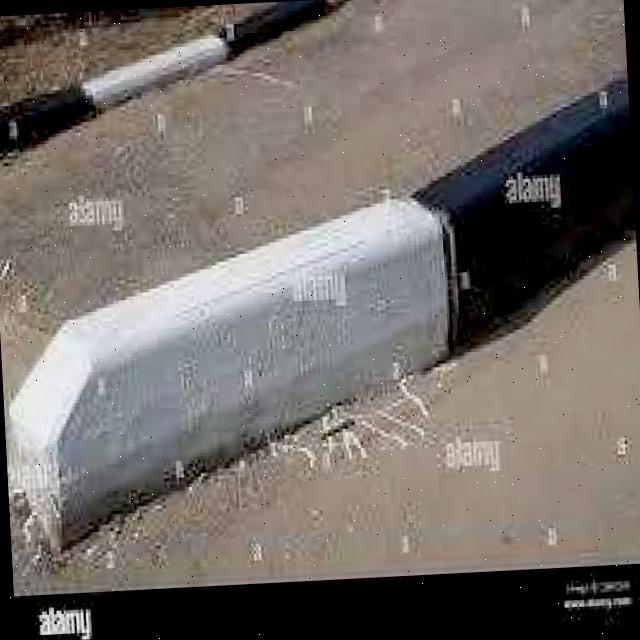curb: (11, 243, 426, 548), (354, 88, 640, 380), (1, 51, 174, 164), (178, 1, 374, 74)
